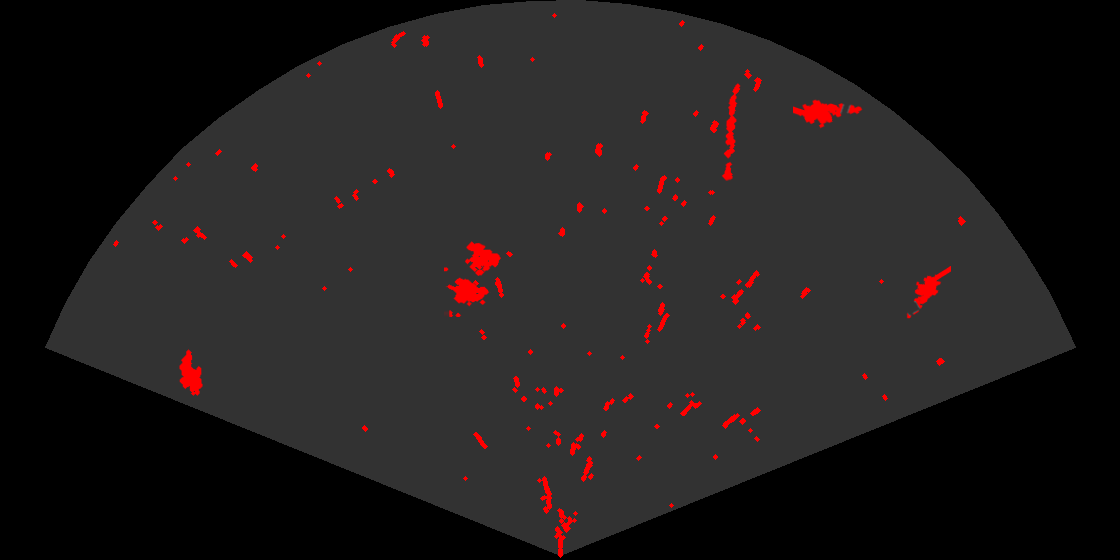AUV: (178, 348, 204, 397)
cage: (444, 240, 502, 317)
chain: (720, 82, 742, 181)
frogman: (905, 266, 951, 320), (793, 98, 864, 130)
